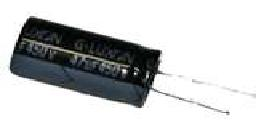Electrolytic-capacitor: (9, 14, 256, 124)
